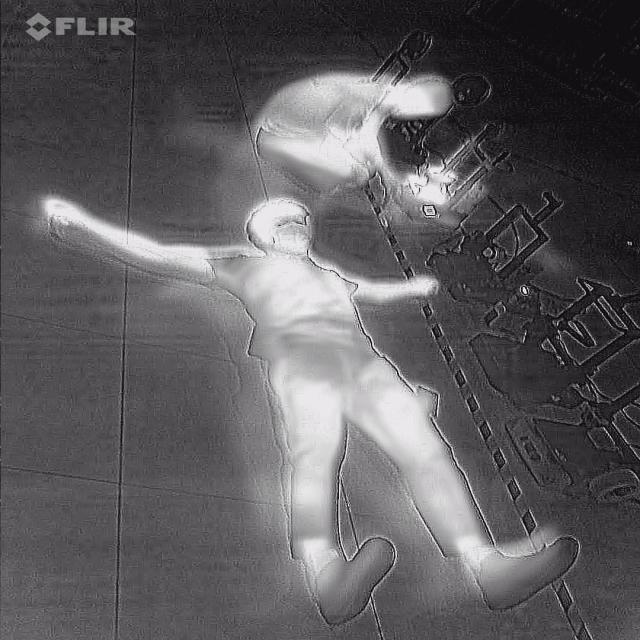Victim: (42, 188, 586, 628), (250, 61, 460, 206)
